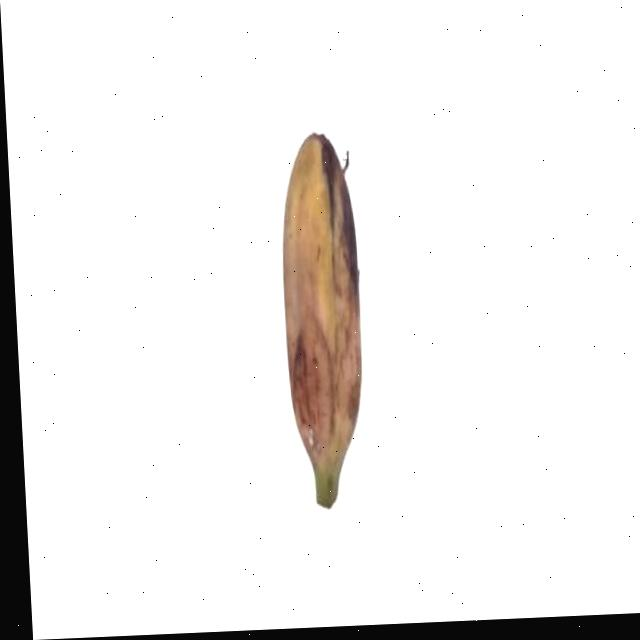banana: (266, 127, 379, 514)
